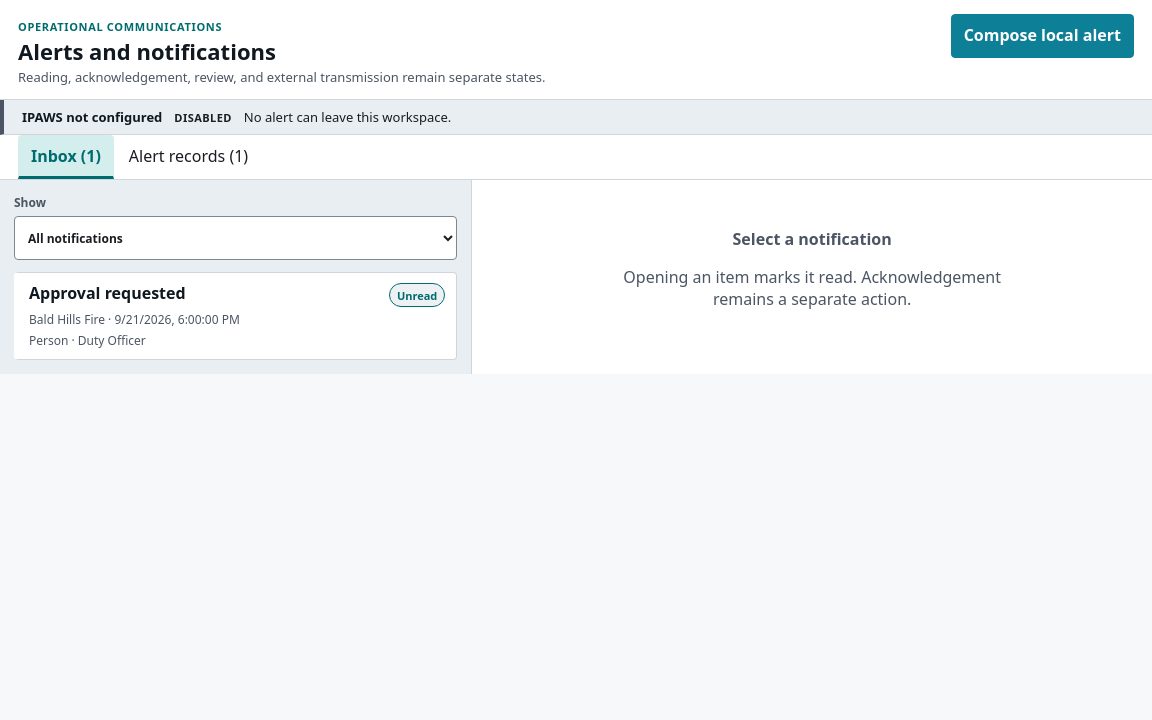
notification states › marks an explicitly opened notification read without acknowledging it
Step 1. Click the button "Approval requested" → (236, 316), box x1=14 y1=272 x2=457 y2=360
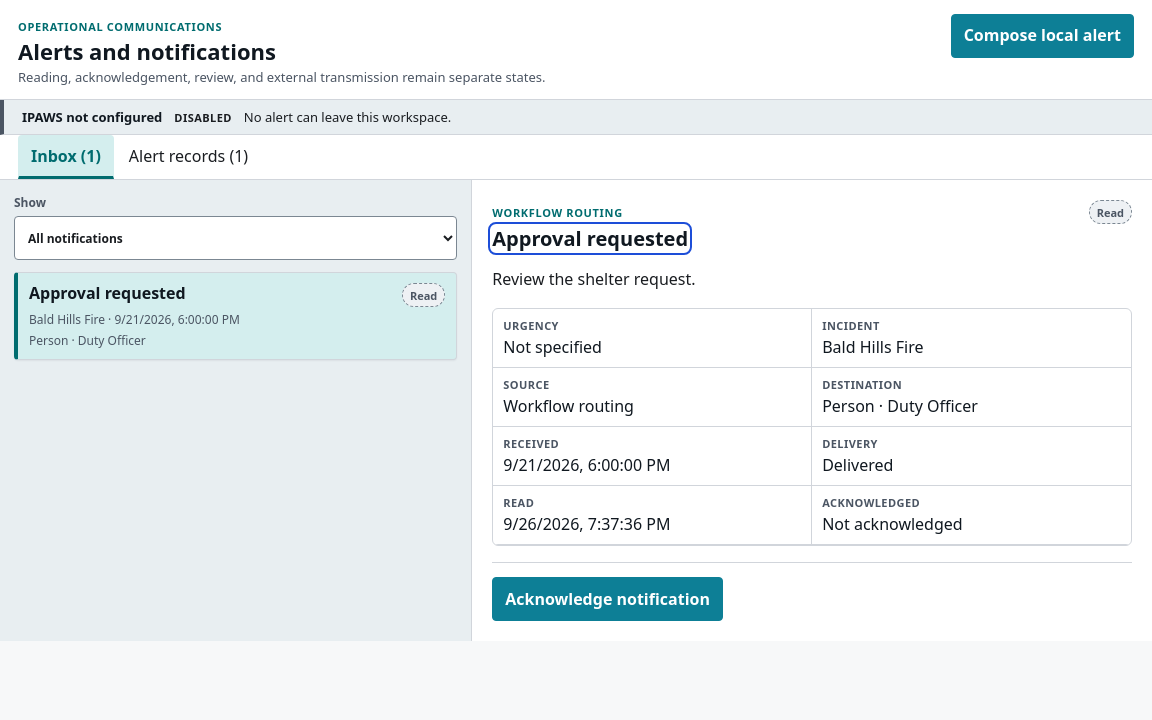
expect the text "Not acknowledged" is shown: met, box x1=822 y1=513 x2=963 y2=535
Step 2. Click the button "Acknowledge notification" → (608, 599), box x1=492 y1=577 x2=723 y2=621
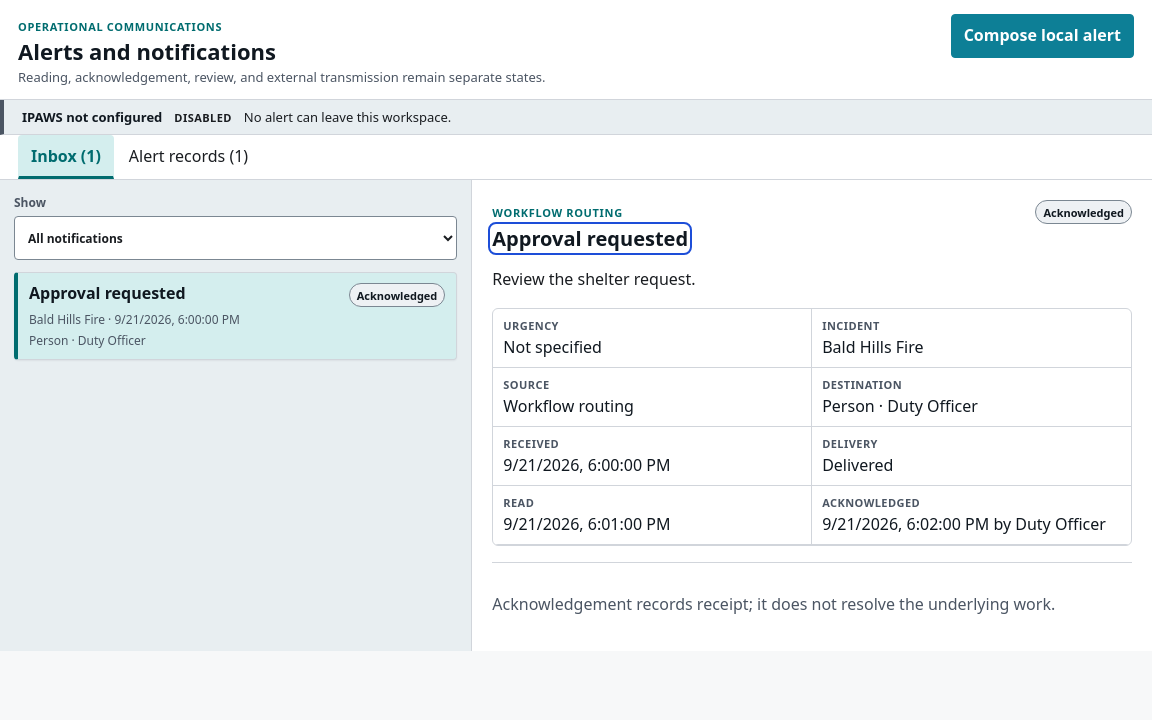
expect the text "9/21/2026, 6:02:00 PM by Duty Officer" is shown: met, box x1=822 y1=513 x2=1121 y2=535
